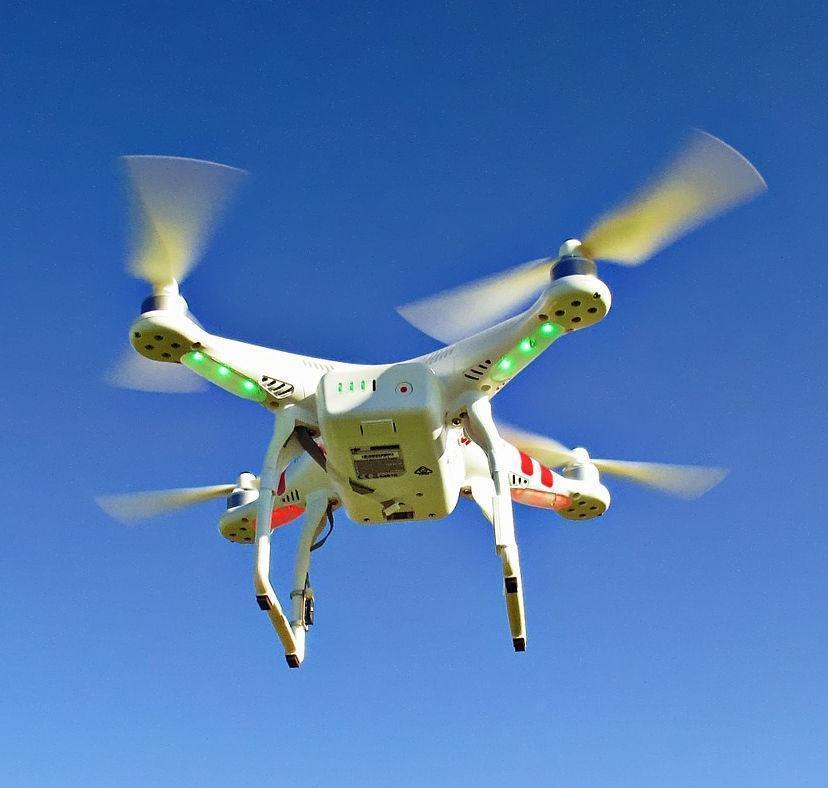UAV: (125, 240, 632, 666)
